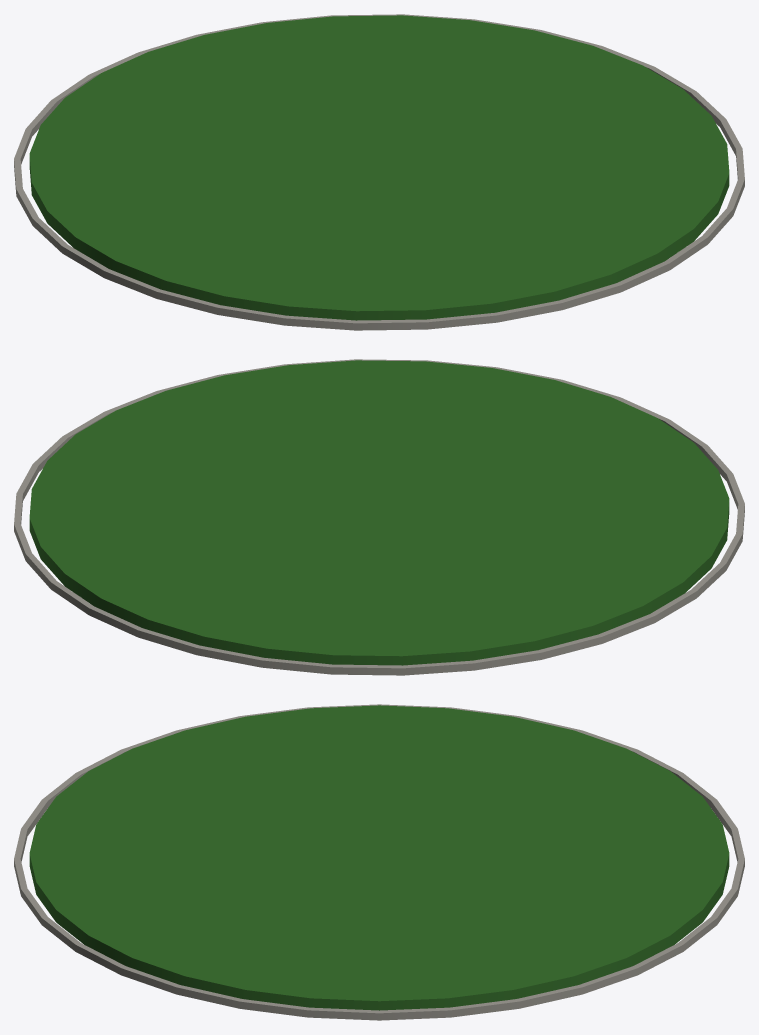
The model's file is road.feature.roundabout.glb.
3 renders of one model, top to bottom at view 1: azimuth 30°, elevation 25°; view 2: azimuth 150°, elevation 25°; view 3: azimuth 270°, elevation 25°, orthographic.
Visible parts, largest first — view 1: main__foliage, main__concrete; view 2: main__foliage, main__concrete; view 3: main__foliage, main__concrete.
Boxes of the visible parts, x1,y1,x2,y2 form: main__foliage: (29, 15, 729, 320); main__concrete: (14, 14, 744, 330); main__foliage: (29, 360, 729, 665); main__concrete: (14, 359, 744, 675); main__foliage: (29, 705, 729, 1010); main__concrete: (14, 704, 744, 1020).
Size of what is drawn, in the model's own units: 13.16 by 0.254 by 13.16.
